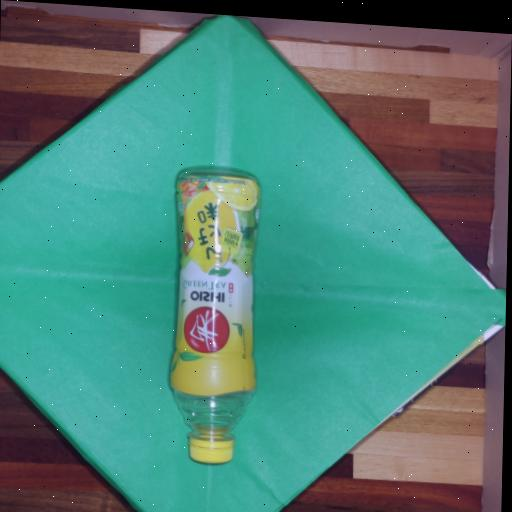bottle: (167, 166, 259, 467)
